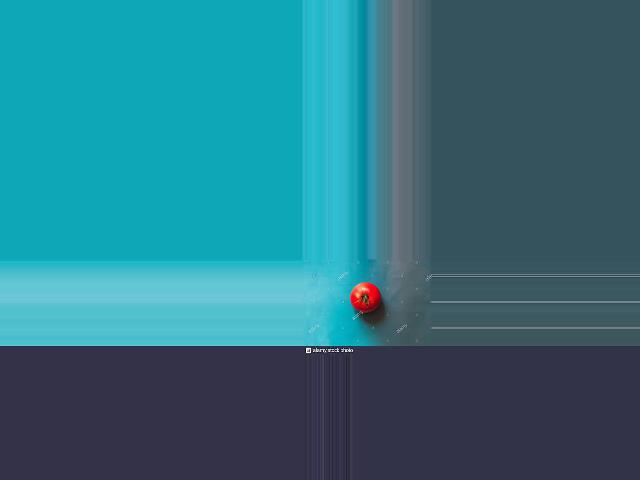tomato: (350, 282, 381, 313)
